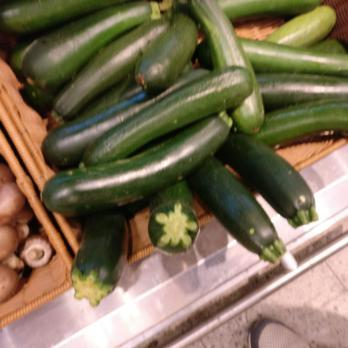Cucumber: (44, 112, 338, 301), (0, 0, 348, 109)
